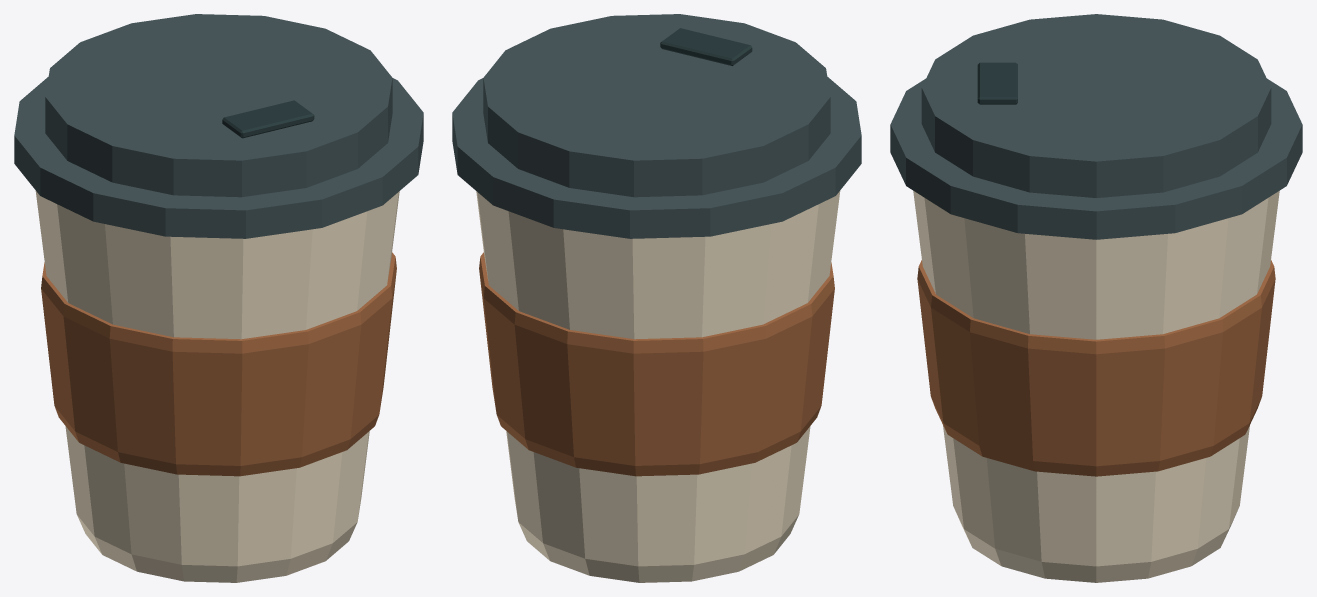
File: 08_Takeaway_Cup.glb
3 views of the same model, side by side, from view 1: azimuth 30°, elevation 25°; view 2: azimuth 150°, elevation 25°; view 3: azimuth 270°, elevation 25° (orthographic).
Visible parts, largest first — view 1: 08_Takeaway_Cup__Body; view 2: 08_Takeaway_Cup__Body; view 3: 08_Takeaway_Cup__Body.
Boxes of the visible parts, left/top/right/bottom form: 08_Takeaway_Cup__Body: left=14, top=14, right=423, bottom=582; 08_Takeaway_Cup__Body: left=452, top=14, right=861, bottom=582; 08_Takeaway_Cup__Body: left=890, top=14, right=1302, bottom=582.
Size of the model in its own units: 0.92 by 1.1 by 0.92.
Materials: 1 (1 with a texture image).
